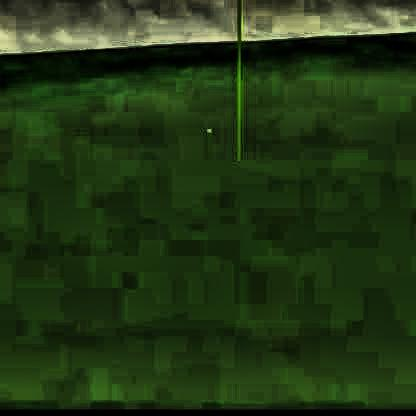golfball: (203, 122, 210, 132)
